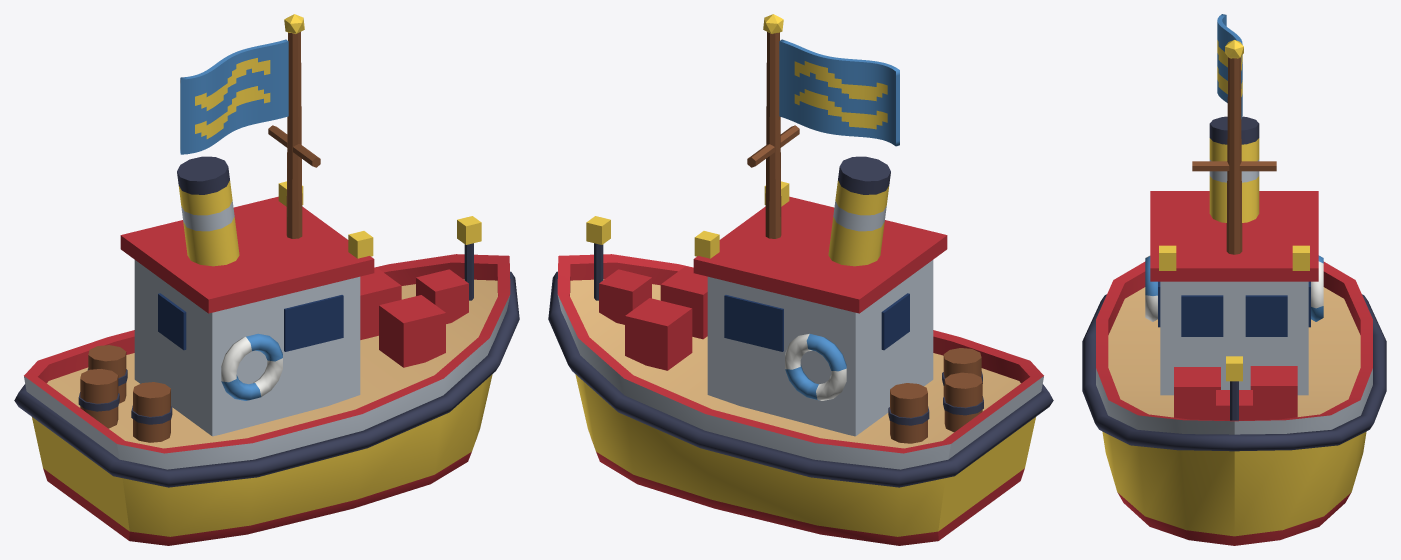
Rendered from pixel-art-fiesta.glb.
The picture shows the model from 3 angles, left to right: view 1: azimuth 30°, elevation 25°; view 2: azimuth 150°, elevation 25°; view 3: azimuth 270°, elevation 25°; orthographic projection. The views are drawn at different scales.
Parts seen in each view (by area): view 1: hull, cabin, roof, fender, flag, funnel, crate.001, mast, ring_stbd, barrel.001, barrel.002, crate.002 (+4 smaller); view 2: hull, cabin, roof, fender, flag, funnel, crate, mast, ring_port, barrel, crate.002, crate.001 (+4 smaller); view 3: hull, cabin, roof, fender, mast, funnel, crate, crate.001, flag, crate.002, ring_port, ring_stbd (+3 smaller).
Part boxes in pixels (box(x1,y1,x2,y2)): hull: box(24, 254, 510, 545); cabin: box(134, 260, 360, 436); roof: box(120, 196, 374, 313); fender: box(14, 271, 519, 487); flag: box(180, 39, 288, 154); funnel: box(177, 156, 239, 266); crate.001: box(379, 295, 445, 367); mast: box(268, 32, 320, 238); ring_stbd: box(221, 333, 282, 400); barrel.001: box(131, 382, 172, 442); barrel.002: box(78, 369, 119, 428); crate.002: box(416, 269, 468, 323); hull: box(557, 254, 1043, 545); cabin: box(707, 260, 933, 436); roof: box(693, 196, 947, 313); fender: box(548, 271, 1053, 487); flag: box(779, 39, 899, 146); funnel: box(828, 156, 890, 266); crate: box(625, 298, 692, 370); mast: box(747, 32, 799, 238); ring_port: box(785, 333, 846, 400); barrel: box(888, 383, 929, 443); crate.002: box(599, 269, 651, 324); crate.001: box(660, 266, 707, 339); hull: box(1096, 261, 1372, 545); cabin: box(1158, 281, 1310, 395); roof: box(1150, 191, 1318, 281); fender: box(1082, 294, 1386, 451); mast: box(1192, 57, 1276, 254); funnel: box(1209, 116, 1259, 222); crate: box(1250, 366, 1297, 420); crate.001: box(1174, 367, 1220, 420); flag: box(1217, 14, 1242, 119); crate.002: box(1216, 390, 1252, 420); ring_port: box(1311, 255, 1323, 321); ring_stbd: box(1145, 255, 1157, 321).
Bounding box in the file's own units: 2.02 × 1.9 × 1.23.
